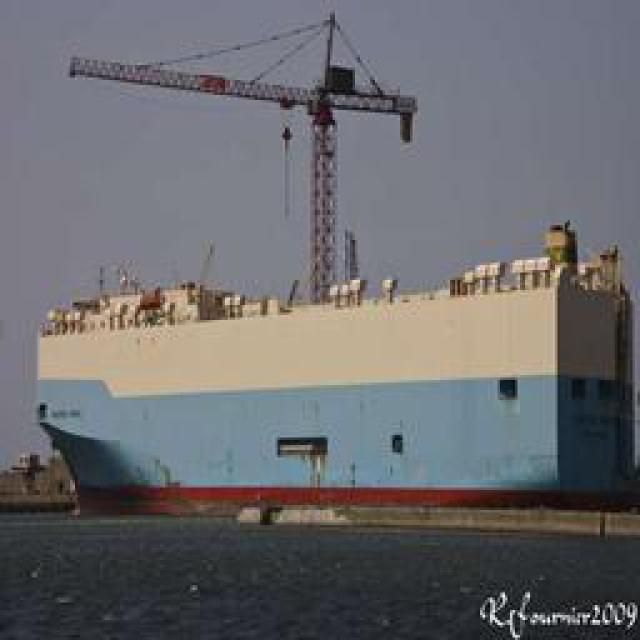Ship: (11, 214, 640, 532)
